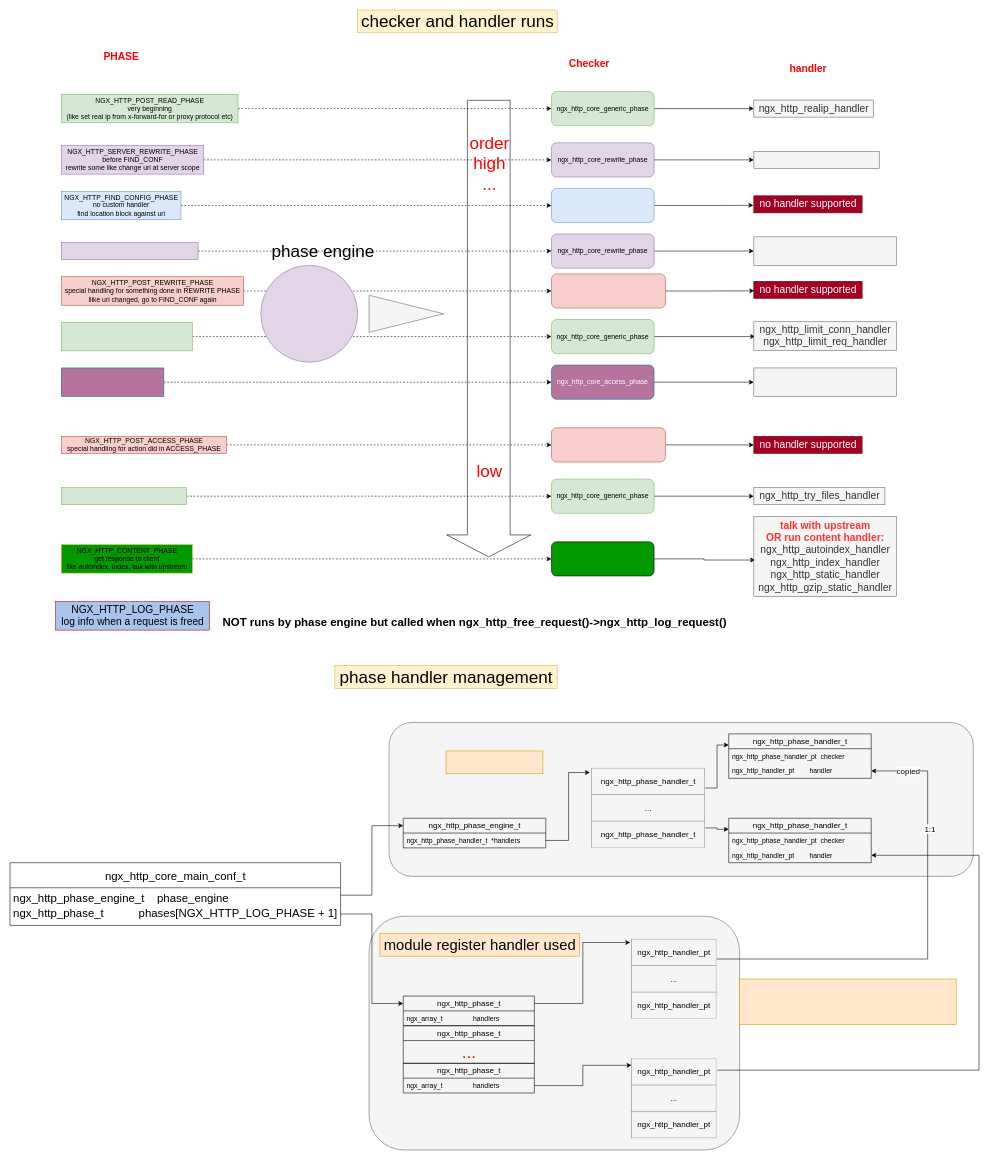
The diagram is 994 pixels wide and 1160 high, and some of its shapes have lost their labels. The shapes that lost their labels are listed below. From the top down, each one's centre as x and y in pixels, then its label:
pixel 816 159: ngx_http_rewrite_handler
pixel 602 205: ngx_http_core_find_config_phase
pixel 129 251: NGX_HTTP_REWRITE_PHASE rewrite something like uri at location block
pixel 824 250: ngx_http_rewrite_handler ngx_http_lua_rewrite_handler
pixel 608 290: ngx_http_core_post_rewrite_phase
pixel 309 313: ngx_http_core_run_phases called after parse all headers
pixel 406 313: runs
pixel 126 336: NGX_HTTP_PREACCESS_PHASE limitation like limit connection or request per ip etc
pixel 112 381: NGX_HTTP_ACCESS_PHASE access control list like allow, deny, authentication
pixel 824 381: ngx_http_access_handler ngx_http_auth_basic_handler
pixel 608 444: ngx_http_core_post_access_phase
pixel 124 496: NGX_HTTP_PRECONTENT_PHASE like tryfiles
pixel 602 558: ngx_http_core_content_phase
pixel 494 762: runtime used
pixel 847 1001: ngx_http_init_phase_handlers() build runtime info
